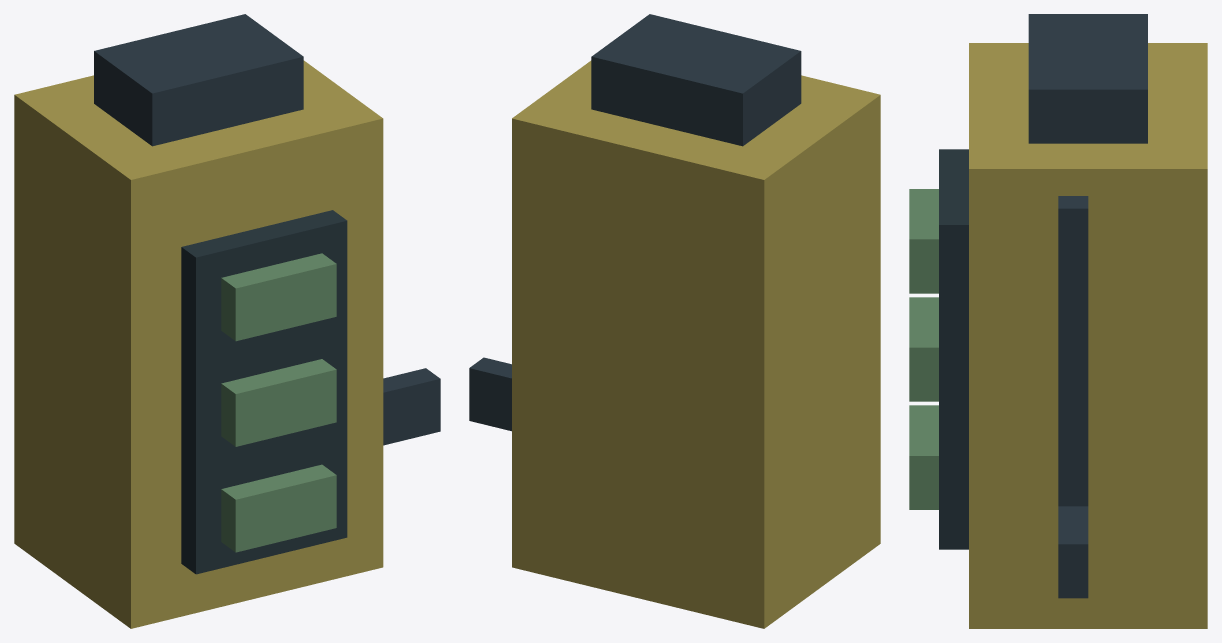
Rendered from energy-09.glb.
3 renders of one model, left to right at view 1: azimuth 30°, elevation 25°; view 2: azimuth 150°, elevation 25°; view 3: azimuth 270°, elevation 25°, orthographic. The views are drawn at different scales.
Parts seen in each view (by area): view 1: Charging pedestal; view 2: Charging pedestal; view 3: Charging pedestal.
Boxes of the visible parts, <box> form: Charging pedestal: <box>14,14,440,628</box>; Charging pedestal: <box>469,14,880,628</box>; Charging pedestal: <box>909,14,1207,628</box>.
Size of the model in its own units: 1.12 by 1.52 by 0.8.
